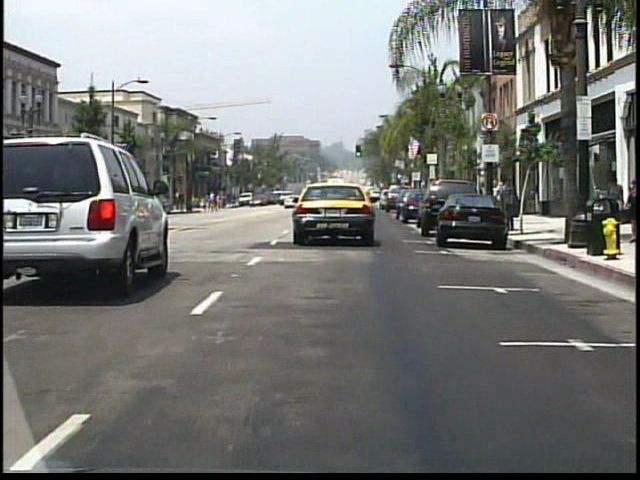person: (597, 172, 625, 245), (491, 180, 504, 215), (231, 195, 239, 210)
